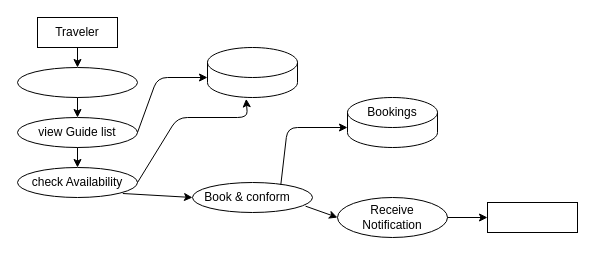
This 595x255 diagram has some shape labels left out. The shapes that lost their labels are listed below. From the top down, each one's centre as x and y in pixels, then its label:
At [77,82]: "select location".
At [252,72]: "Guide Listings".
At [532,217]: "Guide".
